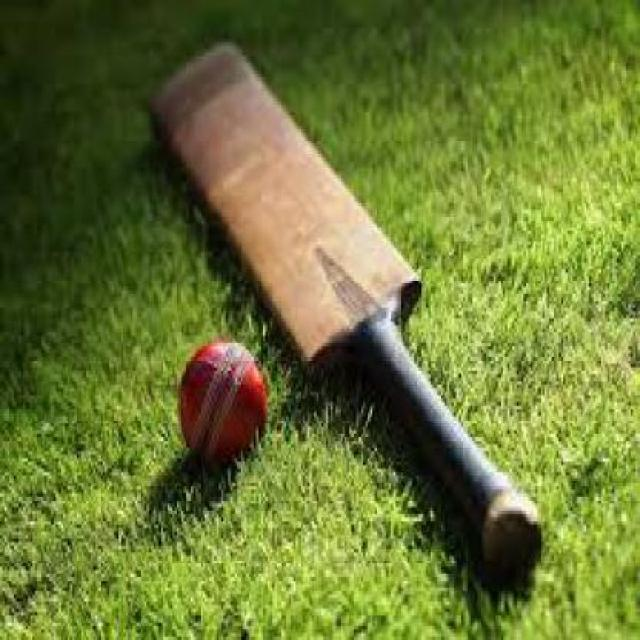ball: (135, 305, 309, 489)
